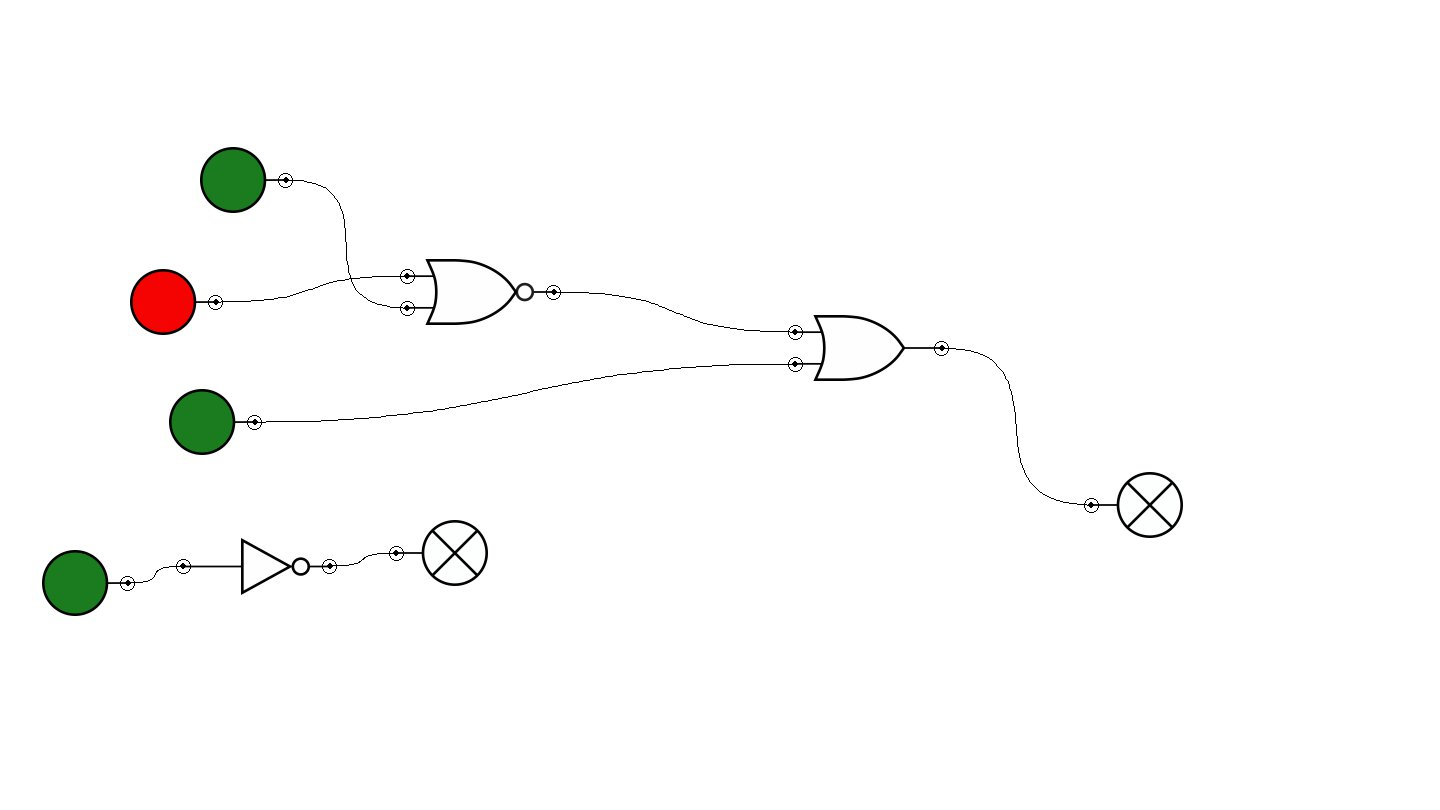bulb: (389, 520, 488, 586), (1084, 472, 1183, 538)
nor: (400, 259, 561, 325)
not: (176, 538, 337, 595)
or: (788, 315, 949, 381)
switch_False: (130, 269, 223, 335)
switch_True: (42, 550, 135, 616), (169, 389, 262, 455), (200, 147, 293, 213)
